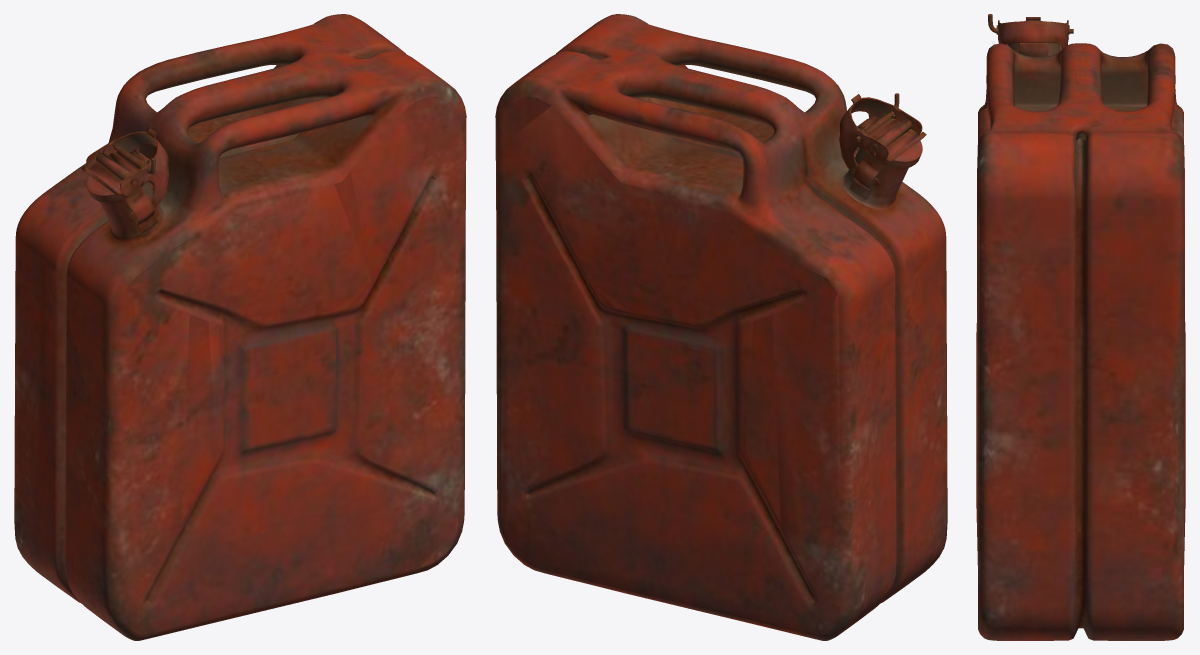
File: metal_jerrycan.glb
The picture shows the model from 3 angles, left to right: view 1: azimuth 30°, elevation 25°; view 2: azimuth 150°, elevation 25°; view 3: azimuth 270°, elevation 25°; orthographic projection. The views are drawn at different scales.
Visible parts, largest first — view 1: metal_jerrycan; view 2: metal_jerrycan; view 3: metal_jerrycan.
Boxes of the visible parts, x1,y1,x2,y2 form: metal_jerrycan: [14, 14, 466, 640]; metal_jerrycan: [495, 14, 947, 640]; metal_jerrycan: [976, 14, 1185, 640].
Size of the model in its own units: 0.3503 by 0.4552 by 0.1718.
Materials: 1 (1 with a texture image).
